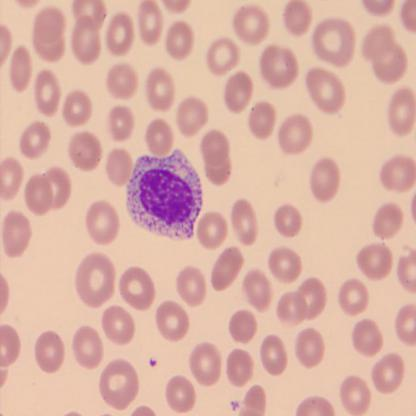Metamyelocyte: (124, 146, 204, 244)
